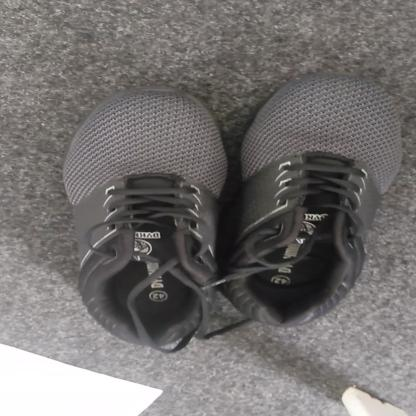safety-shoe: (63, 73, 404, 344)
